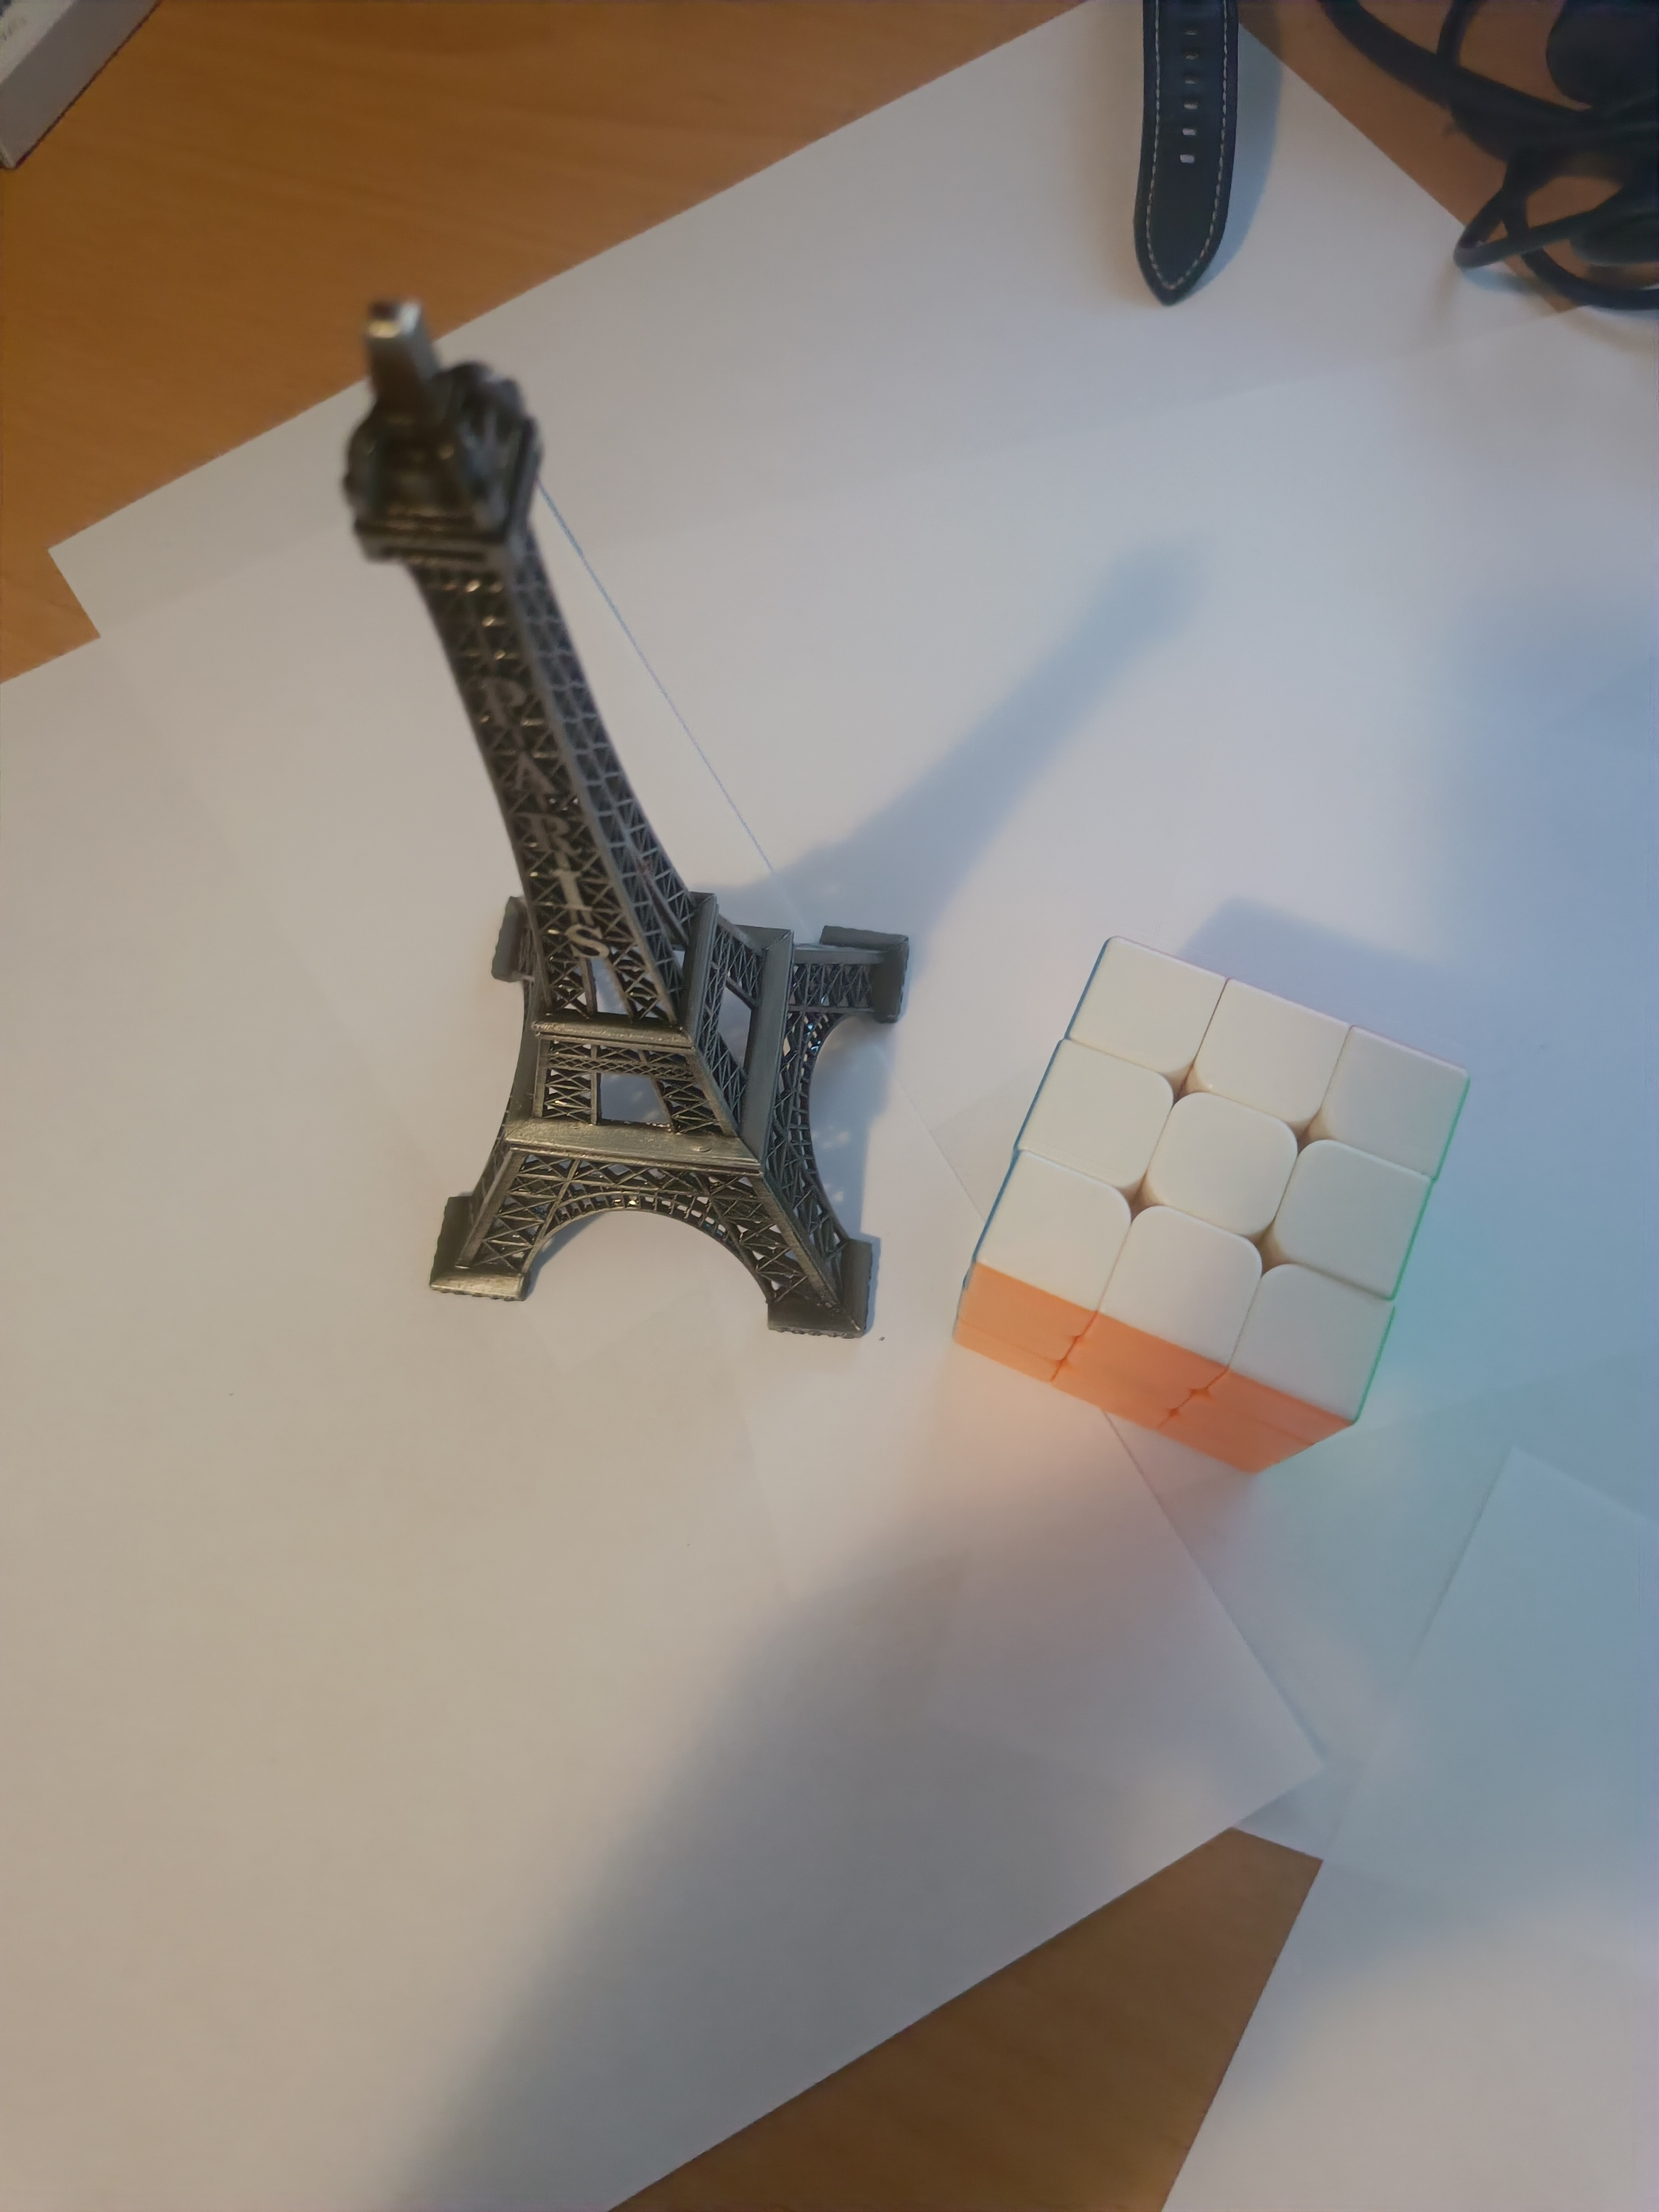Eiffel Tower: (328, 275, 917, 1364)
Rubiks Cube: (943, 900, 1488, 1494)
